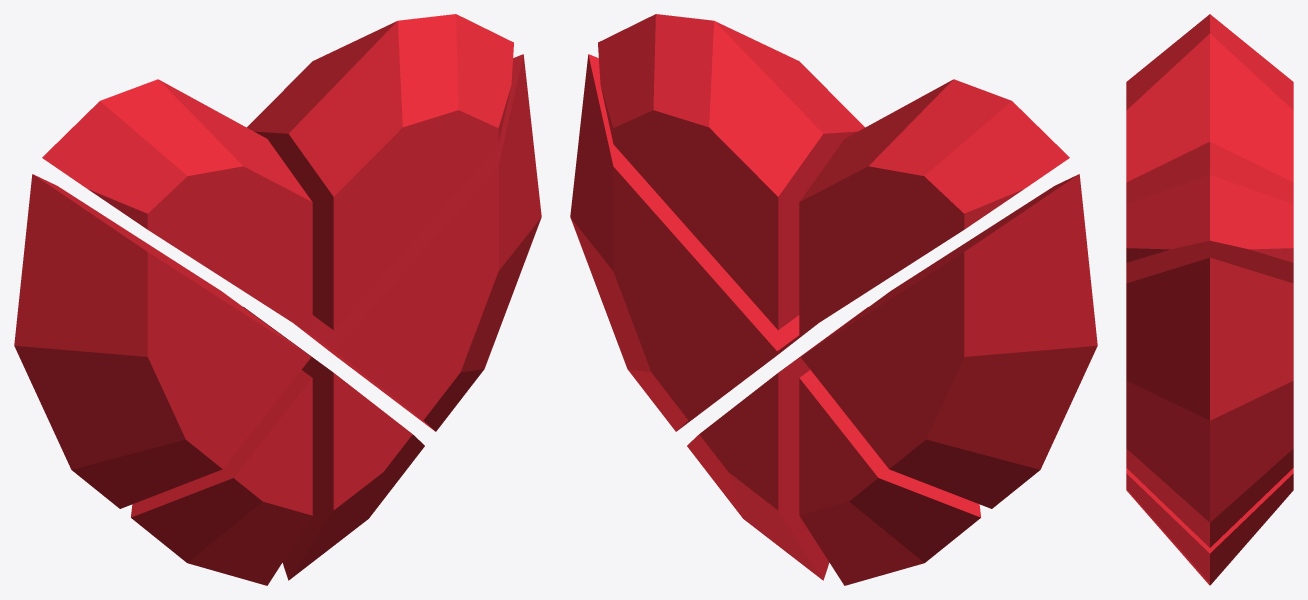
The model's file is EnemyHealth01.fbx.
3 renders of one model, left to right at view 1: azimuth 30°, elevation 25°; view 2: azimuth 150°, elevation 25°; view 3: azimuth 270°, elevation 25°, orthographic. The views are drawn at different scales.
Parts seen in each view (by area): view 1: EnemyHealth; view 2: EnemyHealth; view 3: EnemyHealth.
Part boxes in pixels (<box>): EnemyHealth: <box>14,14,541,585</box>; EnemyHealth: <box>570,14,1097,585</box>; EnemyHealth: <box>1126,14,1293,585</box>.
Size of the model in its own units: 269 by 260 by 79.87.
